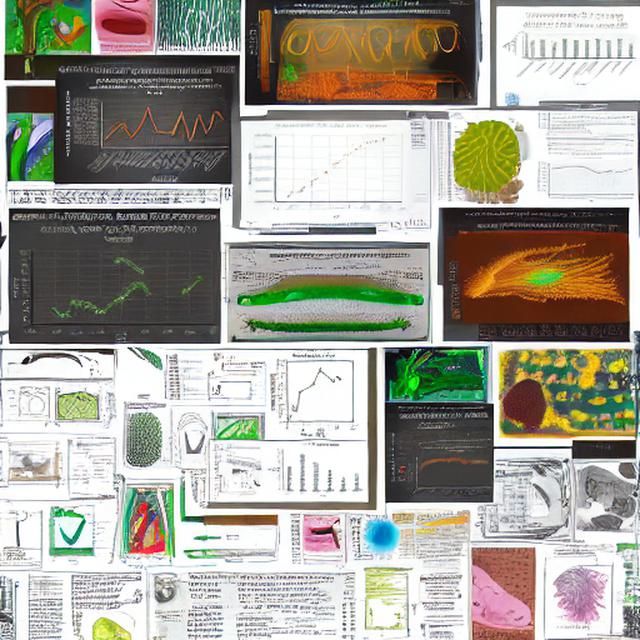Graph: (8, 223, 221, 344), (61, 75, 232, 184), (241, 121, 409, 219), (510, 8, 639, 89), (268, 349, 359, 440), (265, 441, 366, 500), (535, 150, 636, 205), (407, 444, 493, 502)
